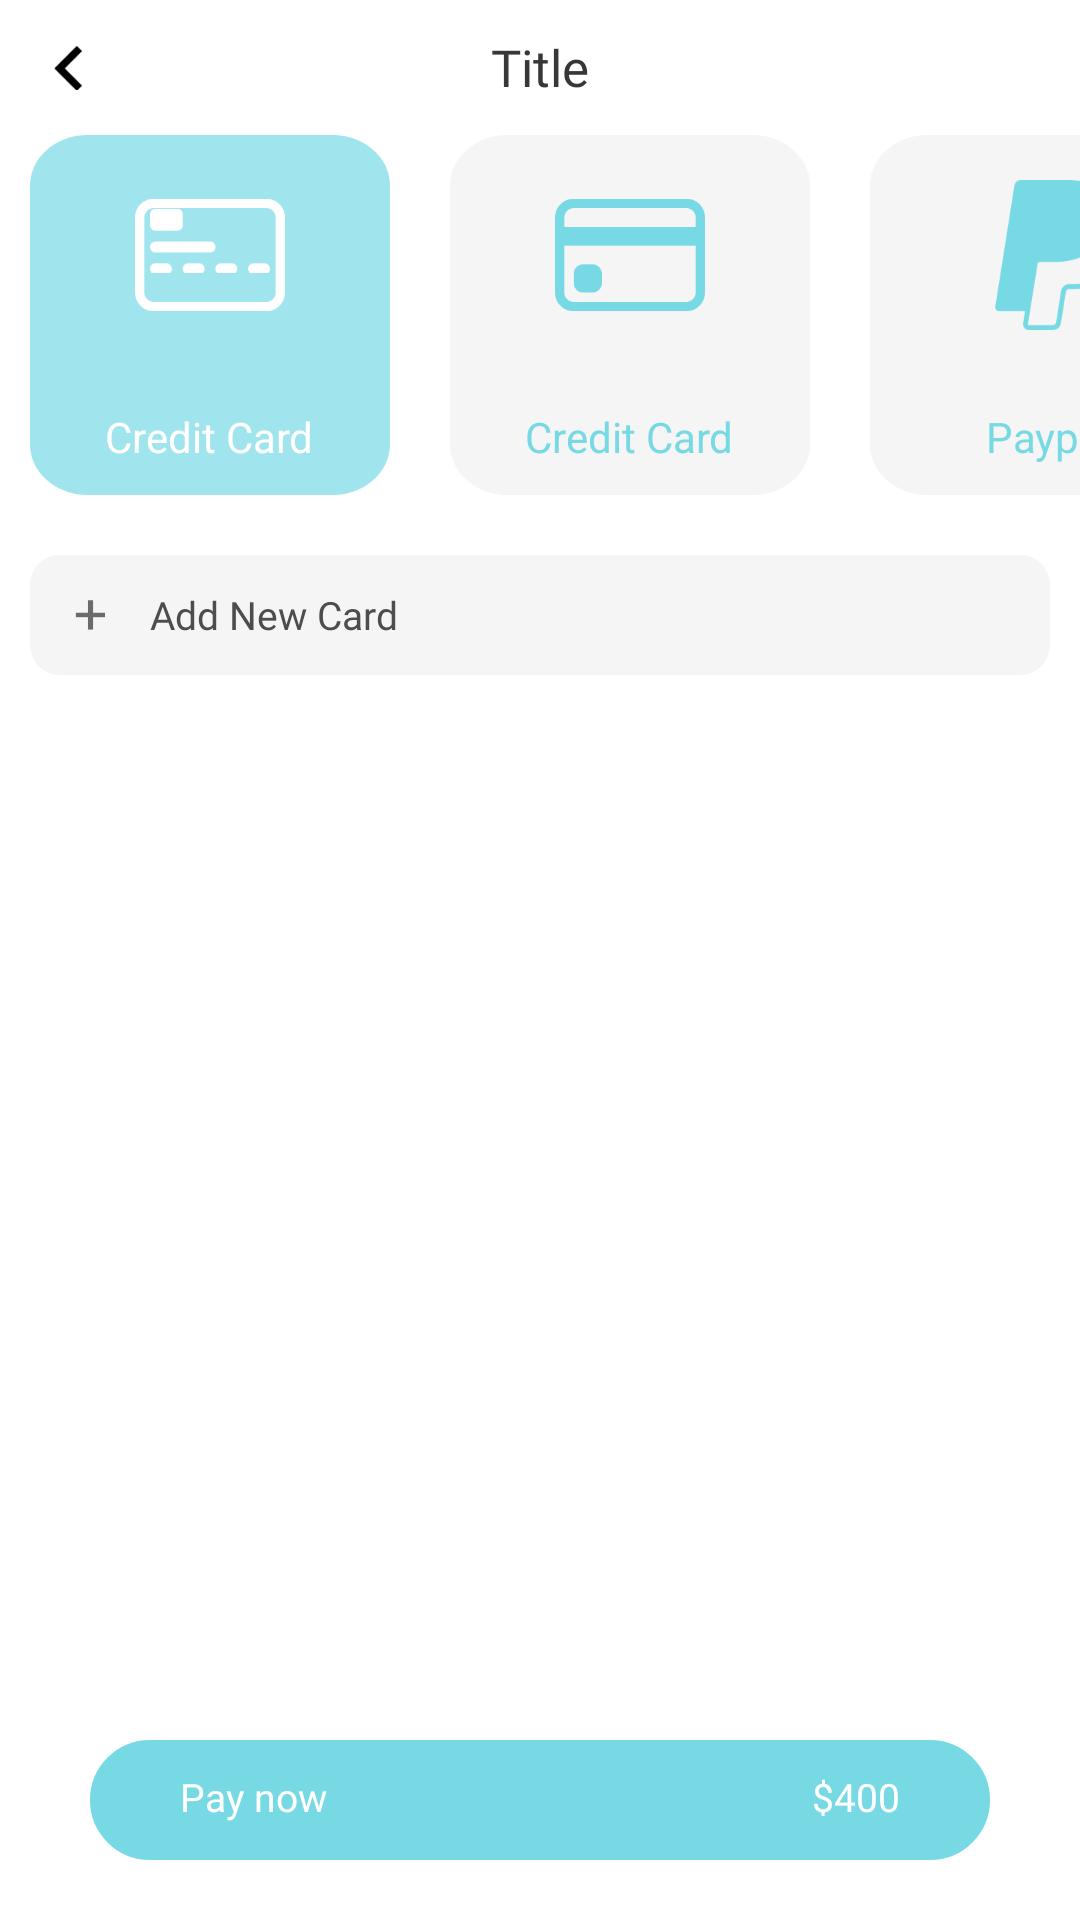

Named icons in this screenshot (1080x1920) and their centers, point (x, y):
debit: point (630, 255)
left arrow: point (68, 68)
plus: point (90, 615)
